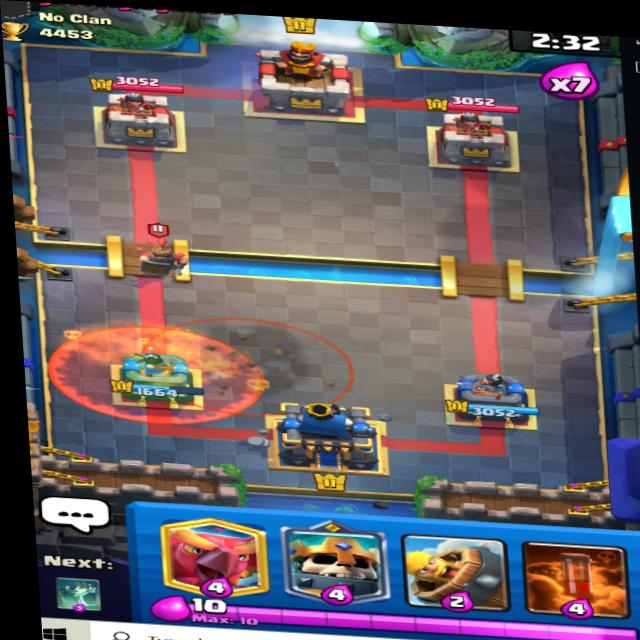earthquake: (149, 311, 351, 423)
poison: (46, 313, 268, 430)
royal-recruits: (133, 220, 196, 282)
